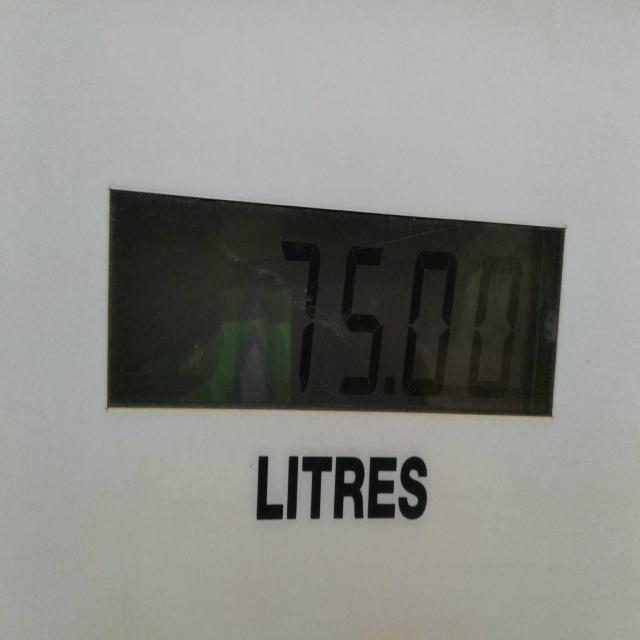.: (380, 365, 404, 415)
0: (396, 238, 457, 398), (466, 236, 525, 396)
5: (331, 238, 383, 396)
7: (278, 233, 327, 405)
